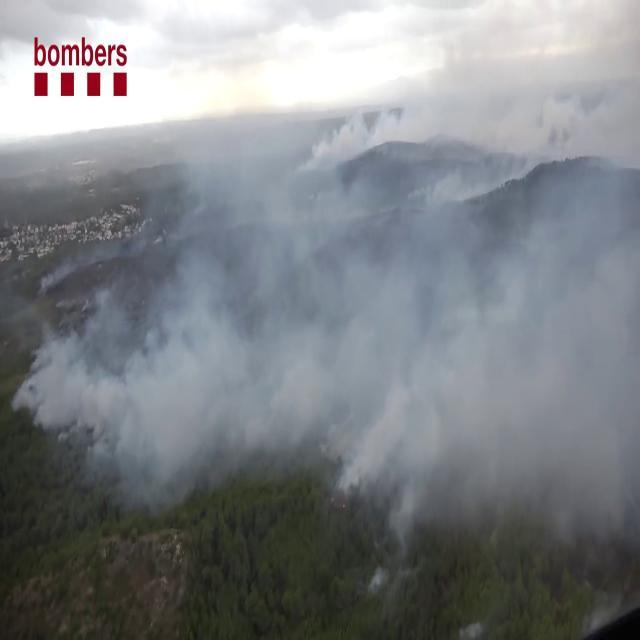Smoke: (8, 23, 640, 545)
